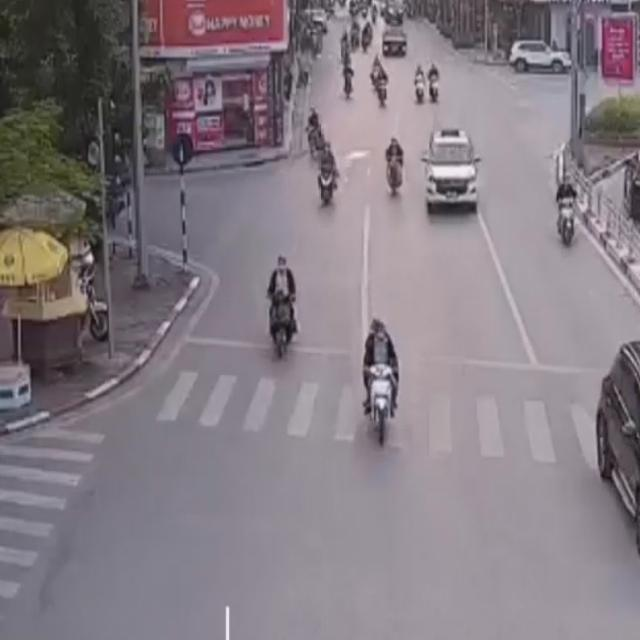car: (593, 336, 640, 538), (422, 129, 482, 216)
motorbike: (355, 314, 402, 447), (261, 253, 300, 370), (550, 170, 580, 248), (314, 140, 340, 210), (384, 136, 406, 202), (304, 103, 326, 156)
